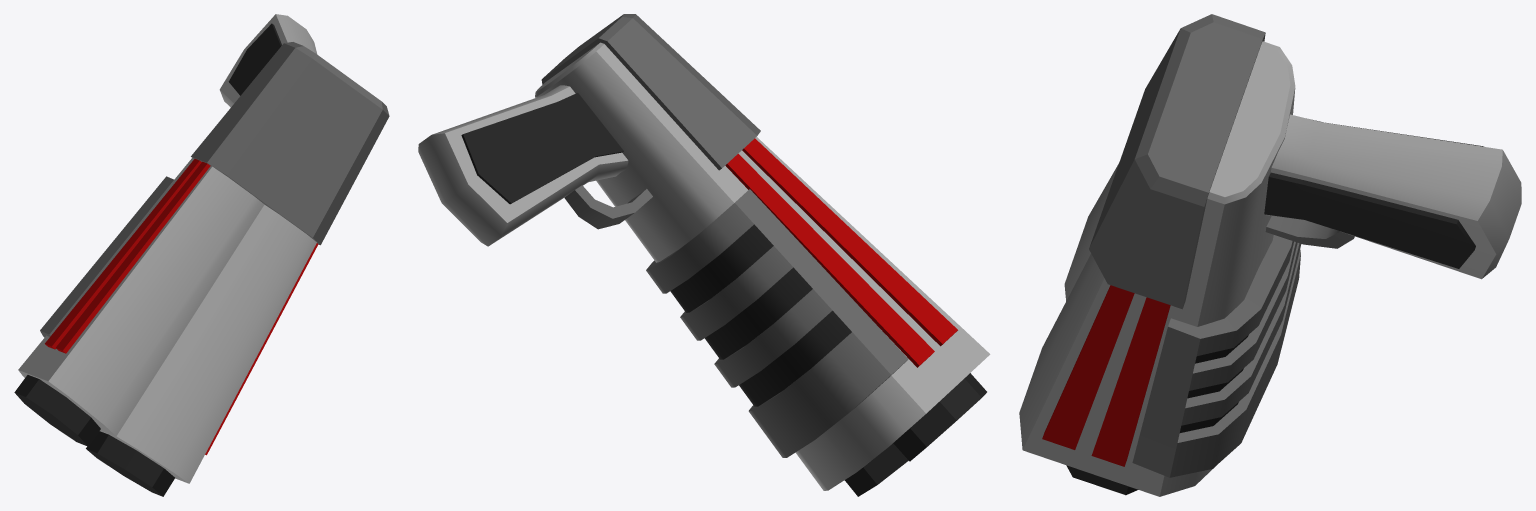
Rendered from Shotgun.fbx.
3 renders of one model, left to right at view 1: azimuth 30°, elevation 25°; view 2: azimuth 150°, elevation 25°; view 3: azimuth 270°, elevation 25°, orthographic. The views are drawn at different scales.
Parts seen in each view (by area): view 1: Shotgun; view 2: Shotgun; view 3: Shotgun.
Part boxes in pixels (<box>): Shotgun: <box>14,14,389,496</box>; Shotgun: <box>418,14,990,496</box>; Shotgun: <box>1019,14,1521,496</box>.
Bounding box in the file's own units: 1.75 × 1.65 × 1.23.
